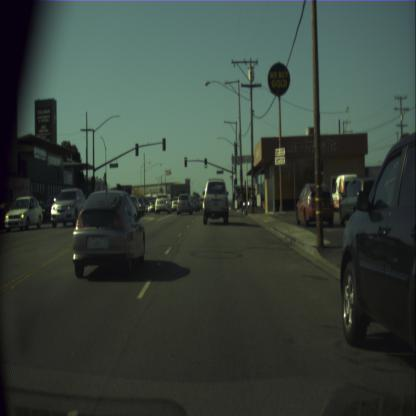Green: (204, 158, 207, 168), (234, 178, 237, 187)
Red: (184, 156, 187, 166)
